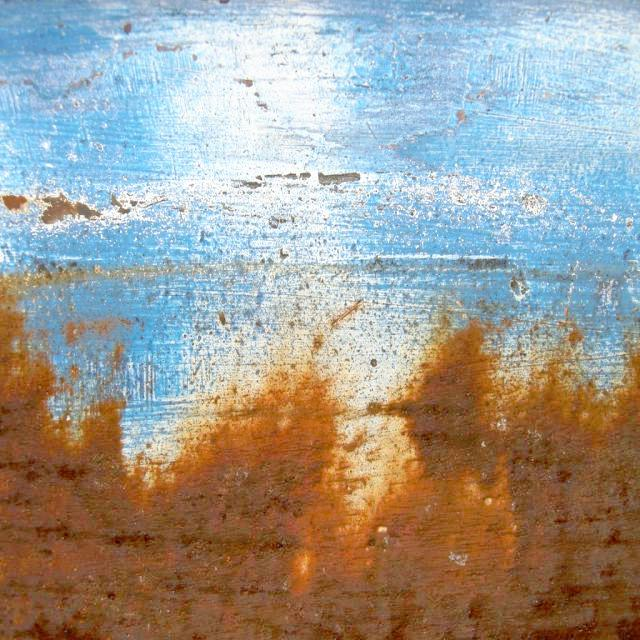Corrosion: (0, 288, 640, 640)
